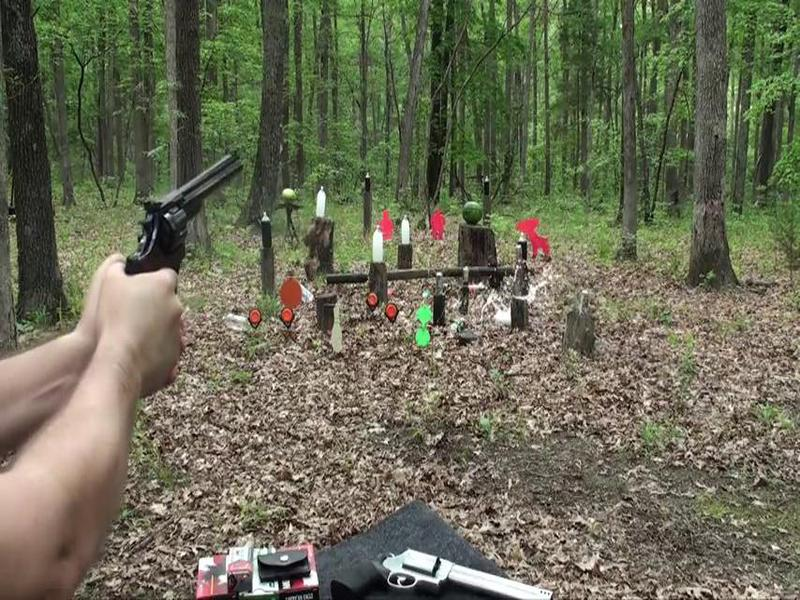Revolver: (124, 141, 248, 294)
